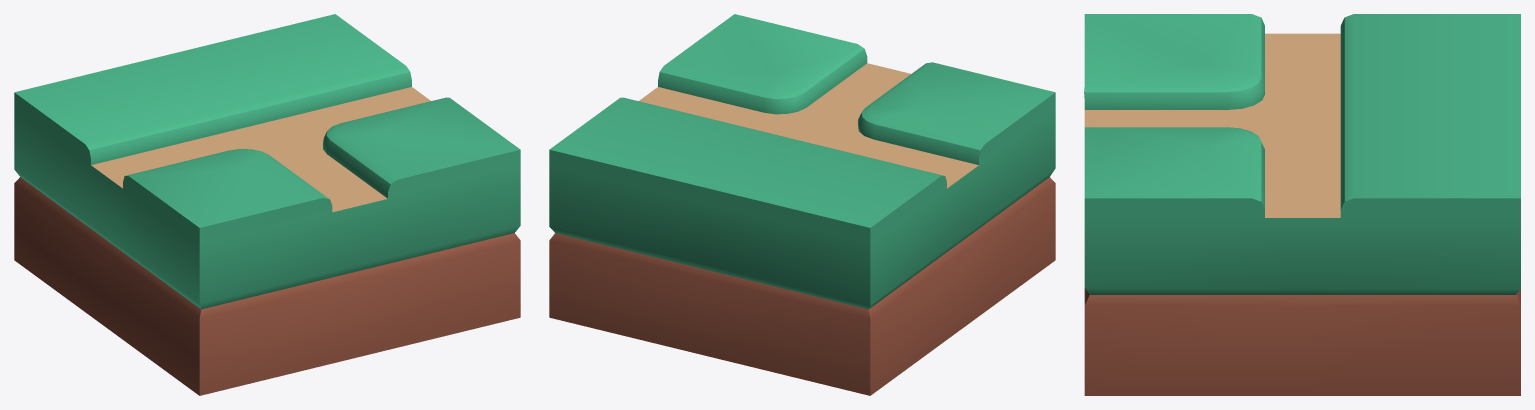
File: square_forest_roadD_detail.glb
3 renders of one model, left to right at view 1: azimuth 30°, elevation 25°; view 2: azimuth 150°, elevation 25°; view 3: azimuth 270°, elevation 25°, orthographic. The views are drawn at different scales.
Parts seen in each view (by area): view 1: square_forest_roadD_detail; view 2: square_forest_roadD_detail; view 3: square_forest_roadD_detail.
Part boxes in pixels (left/top/right/bottom): square_forest_roadD_detail: left=14, top=14, right=520, bottom=395; square_forest_roadD_detail: left=549, top=14, right=1055, bottom=395; square_forest_roadD_detail: left=1084, top=14, right=1520, bottom=395.
Bounding box in the file's own units: 2 × 1 × 2.
